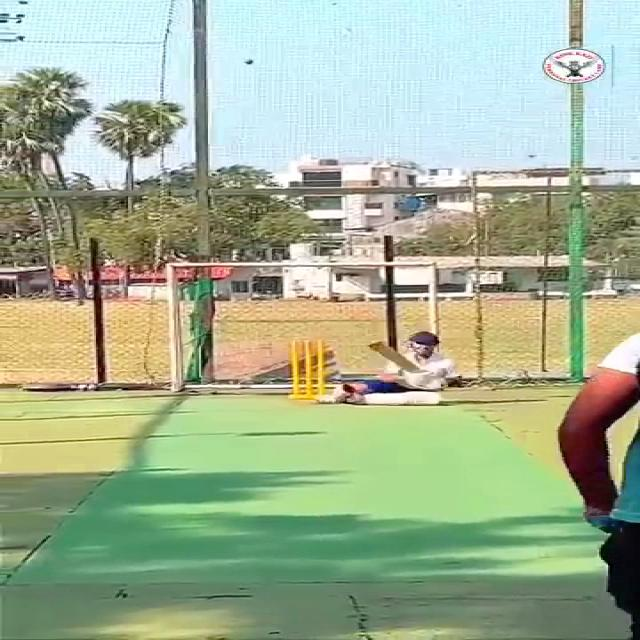batsman: (302, 326, 468, 408)
